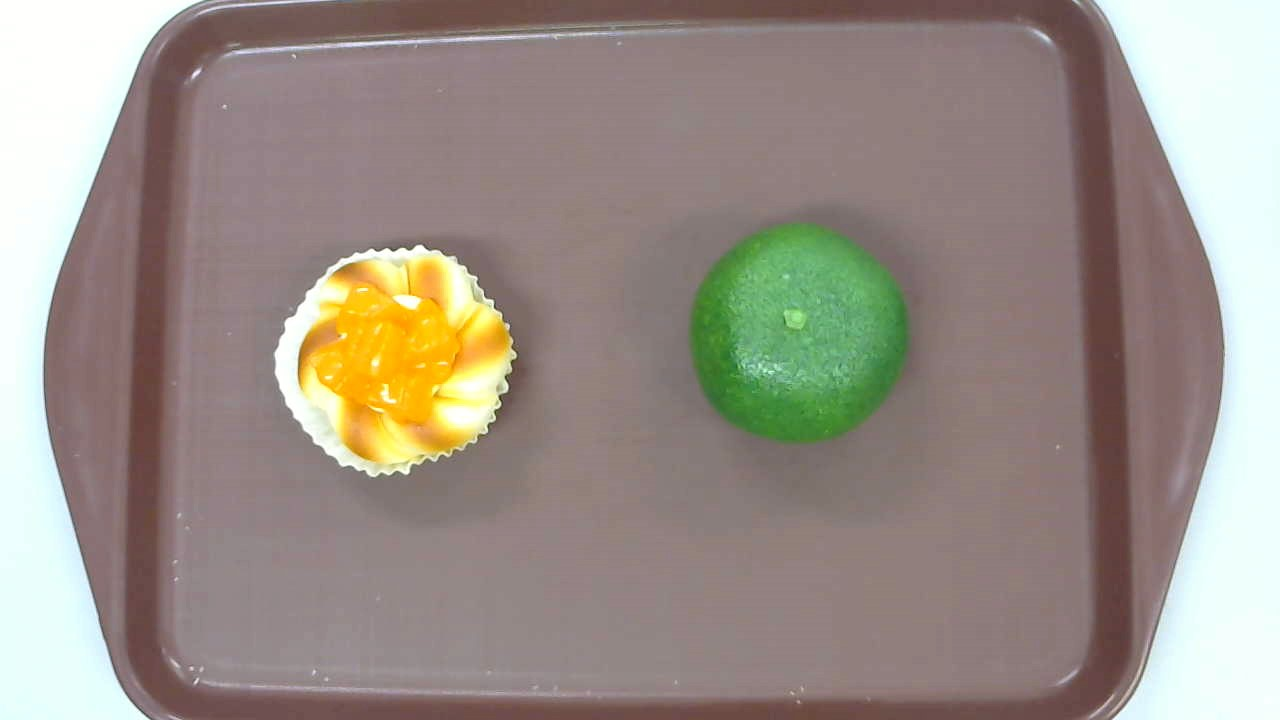green orange: (691, 224, 911, 441)
mango tart: (273, 242, 518, 478)
